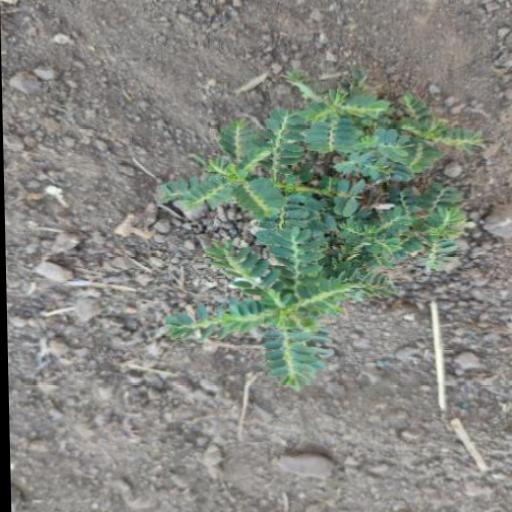weed: (154, 78, 484, 410)
